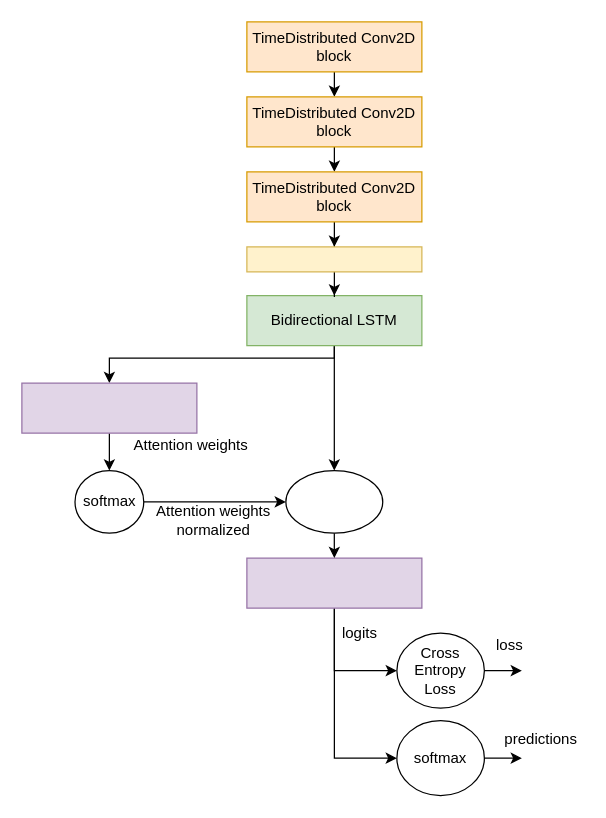
The diagram is 606 pixels wide and 818 high, and some of its shapes have lost their labels. The shapes that lost their labels are listed below. From the top down, each one's centre as x and y in pixels, then its label:
[334,259]: flatten
[109,407]: Attention Linear
[334,501]: multiplication
[334,582]: Linear
